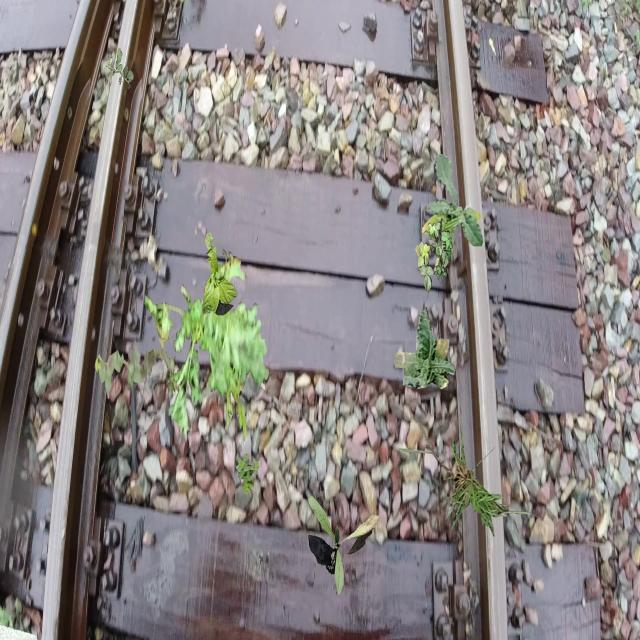Plant: (145, 249, 270, 445), (399, 418, 542, 538), (421, 153, 484, 278), (308, 496, 380, 596), (94, 333, 180, 402), (392, 307, 456, 390), (202, 232, 238, 316), (415, 219, 452, 292), (106, 48, 134, 89), (236, 454, 260, 495)
